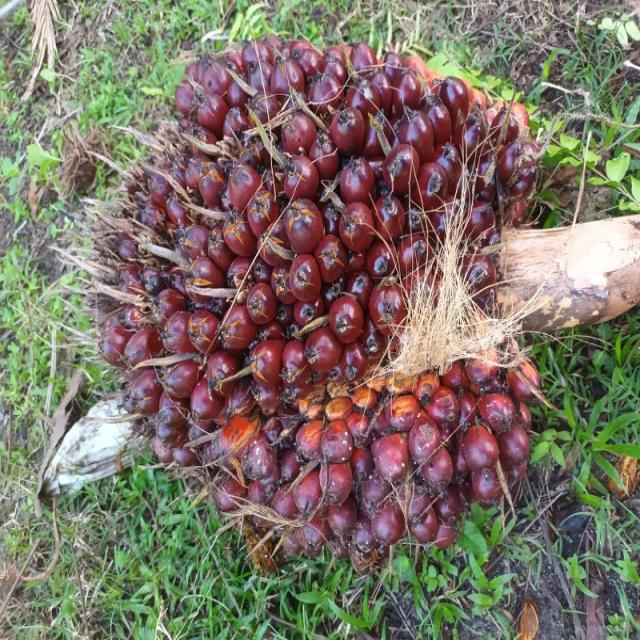fraksi 1: (51, 6, 578, 597)
